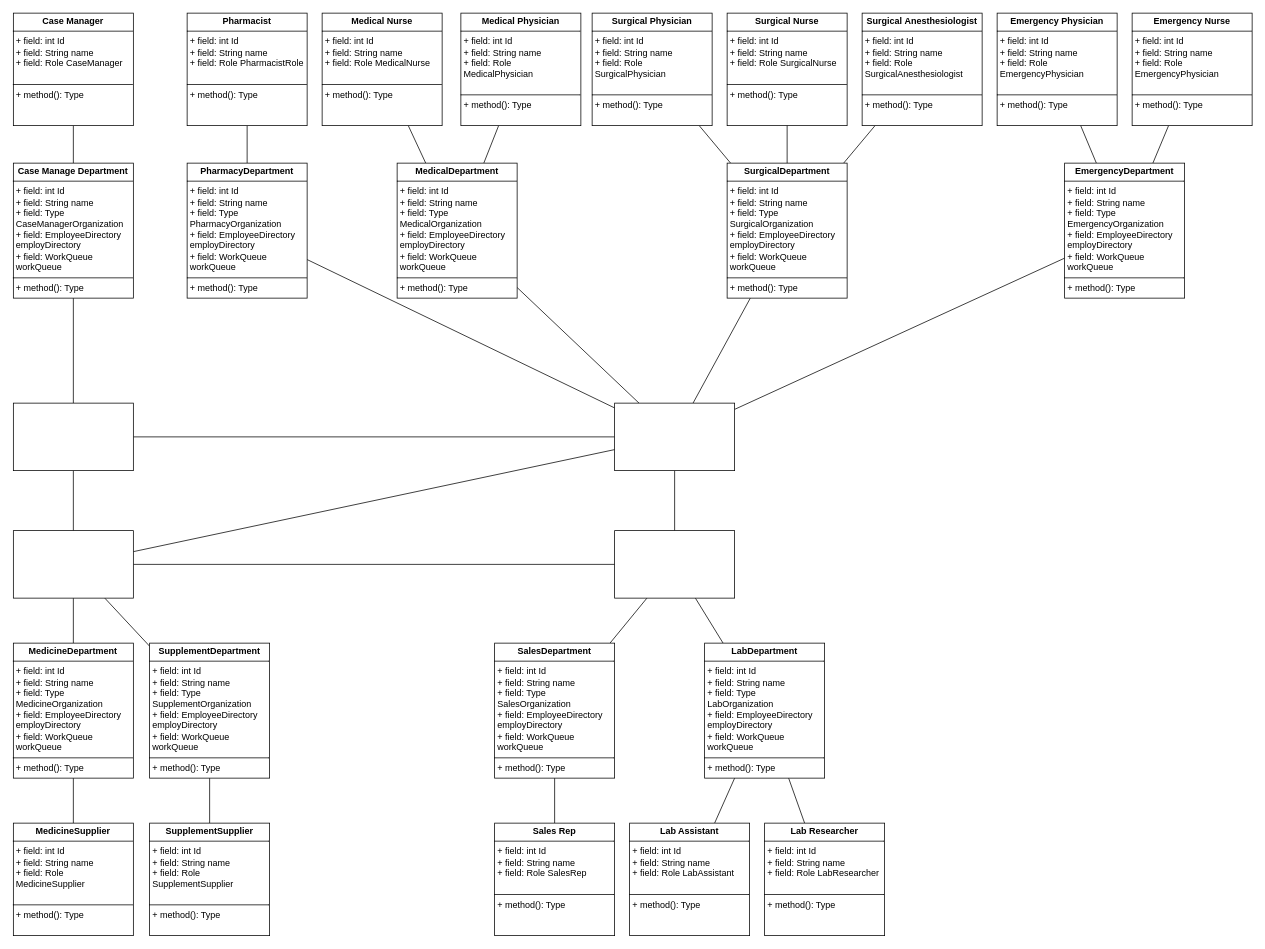
Image size: 1265x949. Some labels were removed from this diagram. The centre of each missing label's shape, as x and y in pixels:
"Hospital + field: Type + method(): Type" goes at [674,436].
"Medical Company + field: Type + method(): Type" goes at [674,564].
"Pharmacy + field: Type + method(): Type" goes at [73,564].
"Social Insurance Institude + field: Type + method(): Type" goes at [73,436].
